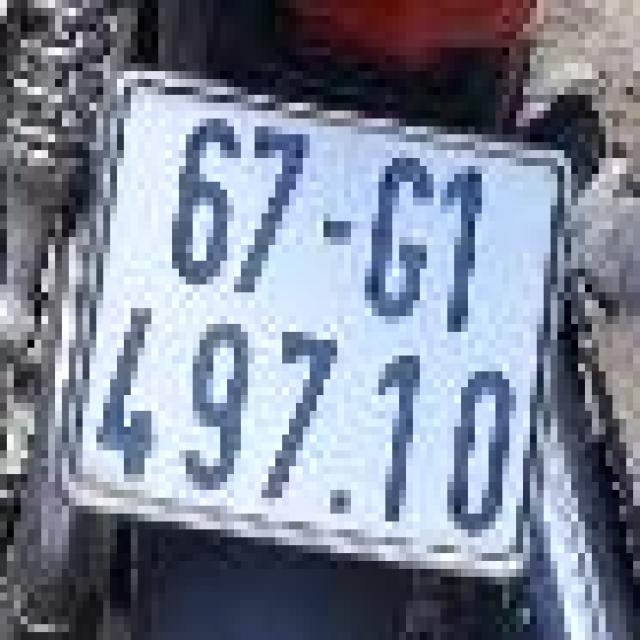0: (450, 364, 520, 553)
1: (365, 348, 447, 529), (437, 154, 485, 344)
4: (90, 284, 165, 490)
6: (158, 115, 234, 296)
7: (265, 328, 347, 502), (241, 115, 316, 304)
9: (176, 312, 251, 494)
G: (364, 142, 434, 332)
